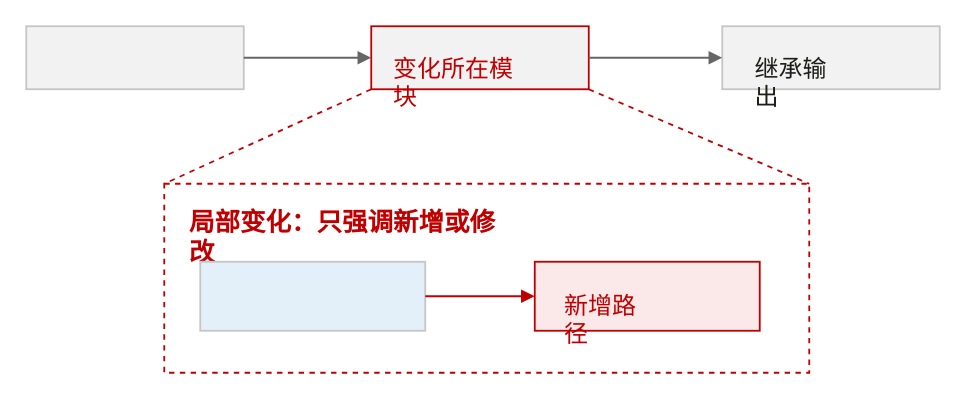
This 968x401 diagram has some shape labels left out. The shapes that lost their labels are listed below. From the top down, each one's centre as x and y in pixels, then its label:
pixel 134 57: 继承模块
pixel 312 295: 继承路径
